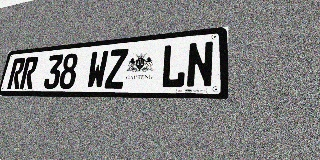3: (43, 54, 64, 89)
8: (58, 53, 80, 89)
L: (160, 43, 187, 88)
N: (186, 40, 214, 88)
R: (19, 56, 39, 89), (7, 58, 26, 89)
W: (86, 50, 109, 89)
Z: (104, 48, 128, 89)
